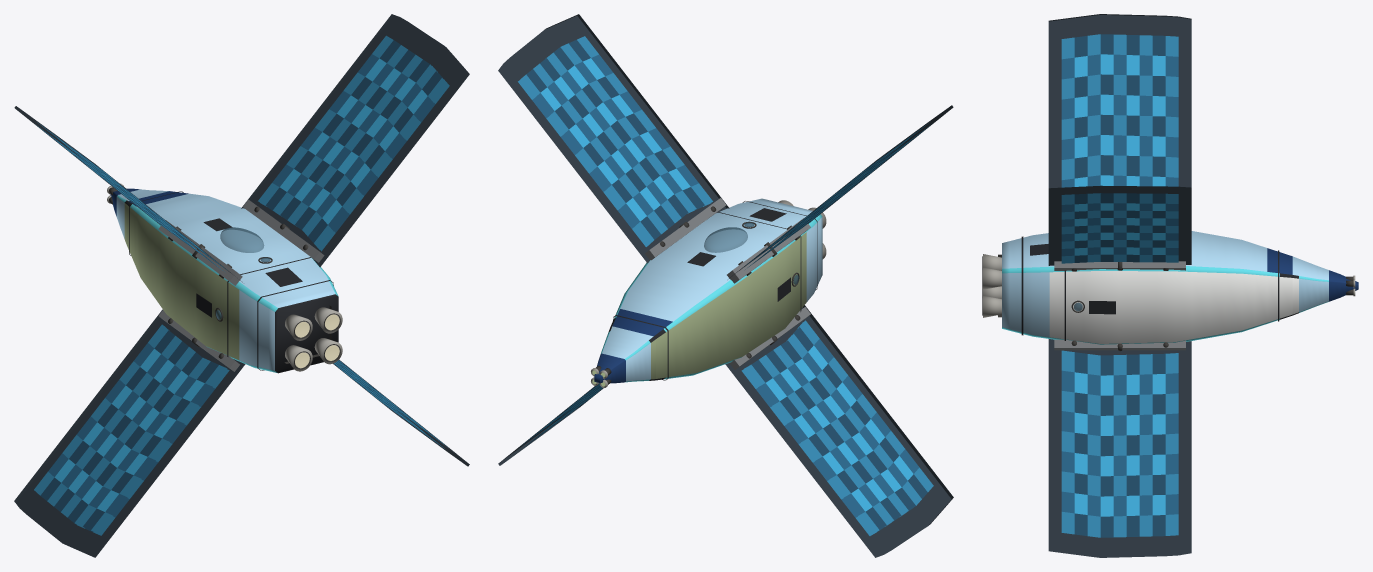
The model's file is Ship_Crosspanel_8.glb.
3 renders of one model, left to right at view 1: azimuth 30°, elevation 25°; view 2: azimuth 150°, elevation 25°; view 3: azimuth 270°, elevation 25°, orthographic. The views are drawn at different scales.
Parts seen in each view (by area): view 1: SolarPanelWing_LowerLeftRidge_RectangularPhotovoltaicGrid, SolarPanelWing_TopRightRidge_RectangularPhotovoltaicGrid, Fuselage_SquareBody, SolarPanelWing_TopLeftRidge_RectangularPhotovoltaicGrid, SolarPanelWing_LowerRightRidge_RectangularPhotovoltaicGrid, SolarPanelWing_TopLeftRidge_RootHingeClamp, SolarPanelWing_TopRightRidge_RootHingeClamp, Canopy_DorsalLowSquareBubble, EngineEmitter, Nose_SquareTaperedForwardSection, SolarPanelWing_LowerLeftRidge_RootHingeClamp; view 2: SolarPanelWing_LowerLeftRidge_RectangularPhotovoltaicGrid, SolarPanelWing_TopRightRidge_RectangularPhotovoltaicGrid, Fuselage_SquareBody, Nose_SquareTaperedForwardSection, SolarPanelWing_TopLeftRidge_RectangularPhotovoltaicGrid, SolarPanelWing_TopLeftRidge_RootHingeClamp, SolarPanelWing_TopRightRidge_RootHingeClamp, Canopy_DorsalLowSquareBubble, SolarPanelWing_LowerRightRidge_RectangularPhotovoltaicGrid, SolarPanelWing_LowerLeftRidge_RootHingeClamp; view 3: SolarPanelWing_LowerRightRidge_RectangularPhotovoltaicGrid, SolarPanelWing_TopLeftRidge_RectangularPhotovoltaicGrid, Fuselage_SquareBody, SolarPanelWing_TopRightRidge_RectangularPhotovoltaicGrid, Nose_SquareTaperedForwardSection, SolarPanelWing_LowerRightRidge_RootHingeClamp, SolarPanelWing_TopRightRidge_RootHingeClamp.
Part boxes in pixels (x1,y1,x2,y2): SolarPanelWing_LowerLeftRidge_RectangularPhotovoltaicGrid: (14,309,245,557); SolarPanelWing_TopRightRidge_RectangularPhotovoltaicGrid: (241,14,469,267); Fuselage_SquareBody: (126,191,338,373); SolarPanelWing_TopLeftRidge_RectangularPhotovoltaicGrid: (14,106,242,282); SolarPanelWing_LowerRightRidge_RectangularPhotovoltaicGrid: (333,359,469,466); SolarPanelWing_TopLeftRidge_RootHingeClamp: (158,220,242,285); SolarPanelWing_TopRightRidge_RootHingeClamp: (243,199,324,262); Canopy_DorsalLowSquareBubble: (220,227,264,252); EngineEmitter: (295,314,339,368); Nose_SquareTaperedForwardSection: (110,188,169,243); SolarPanelWing_LowerLeftRidge_RootHingeClamp: (158,310,239,371); SolarPanelWing_LowerLeftRidge_RectangularPhotovoltaicGrid: (725,305,953,557); SolarPanelWing_TopRightRidge_RectangularPhotovoltaicGrid: (498,14,729,263); Fuselage_SquareBody: (610,198,822,380); Nose_SquareTaperedForwardSection: (594,326,655,383); SolarPanelWing_TopLeftRidge_RectangularPhotovoltaicGrid: (730,105,953,277); SolarPanelWing_TopLeftRidge_RootHingeClamp: (727,218,810,283); SolarPanelWing_TopRightRidge_RootHingeClamp: (645,198,726,260); Canopy_DorsalLowSquareBubble: (704,227,747,252); SolarPanelWing_LowerRightRidge_RectangularPhotovoltaicGrid: (498,383,603,465); SolarPanelWing_LowerLeftRidge_RootHingeClamp: (729,307,810,369); SolarPanelWing_LowerRightRidge_RectangularPhotovoltaicGrid: (1048,339,1191,557); SolarPanelWing_TopLeftRidge_RectangularPhotovoltaicGrid: (1048,14,1191,188); Fuselage_SquareBody: (1002,231,1292,344); SolarPanelWing_TopRightRidge_RectangularPhotovoltaicGrid: (1048,185,1191,265); Nose_SquareTaperedForwardSection: (1292,256,1358,315); SolarPanelWing_LowerRightRidge_RootHingeClamp: (1054,339,1185,350); SolarPanelWing_TopRightRidge_RootHingeClamp: (1054,261,1185,270).
Bounding box in the file's own units: 7.5 × 7.5 × 6.87.
